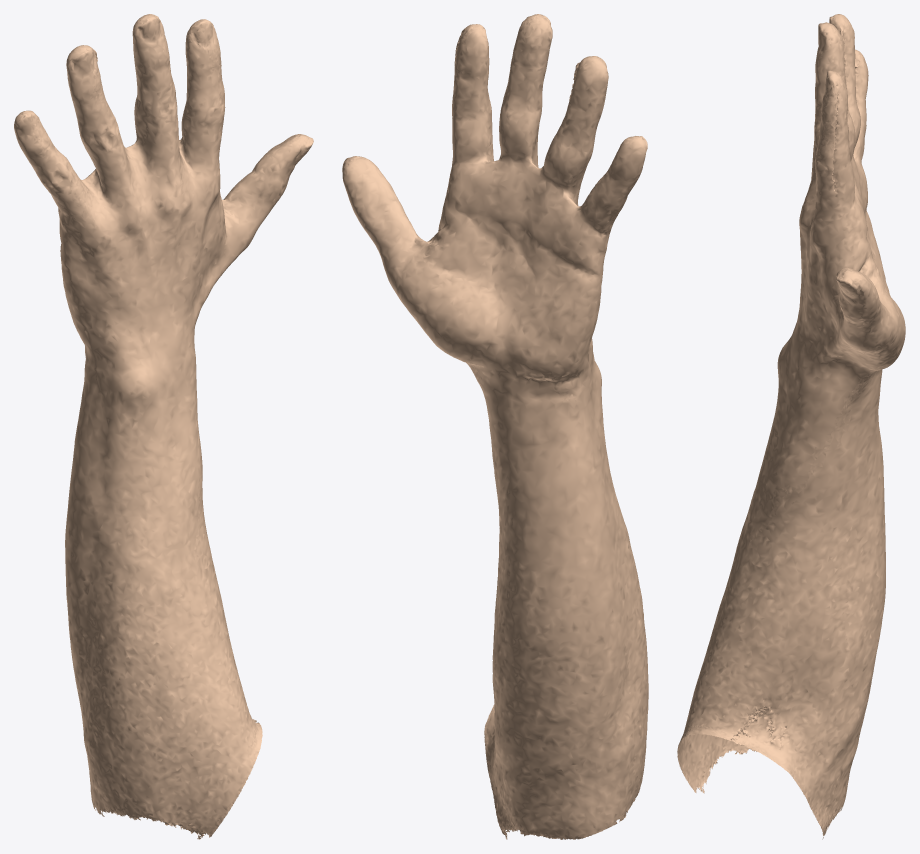
File: hand-arm.glb
3 renders of one model, left to right at view 1: azimuth 30°, elevation 25°; view 2: azimuth 150°, elevation 25°; view 3: azimuth 270°, elevation 25°, orthographic. The views are drawn at different scales.
Parts seen in each view (by area): view 1: Object_2; view 2: Object_2; view 3: Object_2.
Boxes of the visible parts, bbox=[...] form: Object_2: bbox=[14, 14, 313, 839]; Object_2: bbox=[342, 14, 648, 839]; Object_2: bbox=[677, 14, 905, 839].
Bounding box in the file's own units: 166 × 434 × 112.
